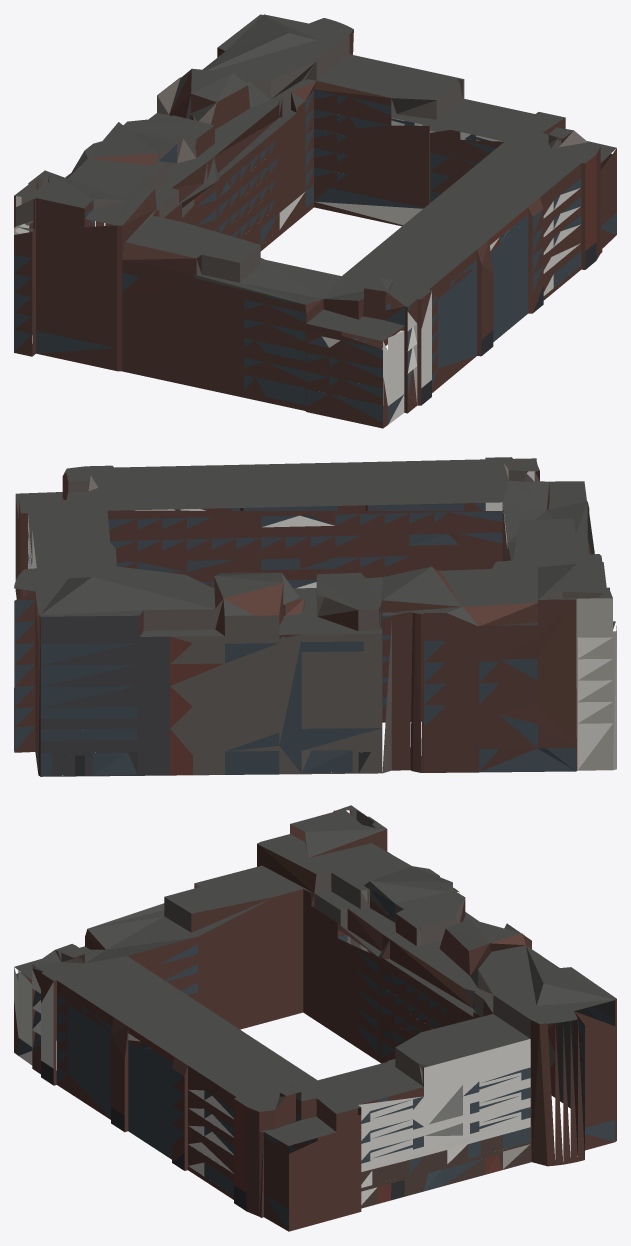
The model's file is valkenburgerstraat-69.lod2.glb.
The picture shows the model from 3 angles, top to bottom: view 1: azimuth 30°, elevation 25°; view 2: azimuth 150°, elevation 25°; view 3: azimuth 270°, elevation 25°; orthographic projection. The views are drawn at different scales.
Visible parts, largest first — view 1: lod2; view 2: lod2; view 3: lod2.
Part boxes in pixels (left/top/right/bottom): lod2: left=14, top=14, right=616, bottom=428; lod2: left=14, top=457, right=616, bottom=776; lod2: left=14, top=805, right=616, bottom=1231.
Size of the model in its own units: 83.42 by 21.72 by 77.39.
